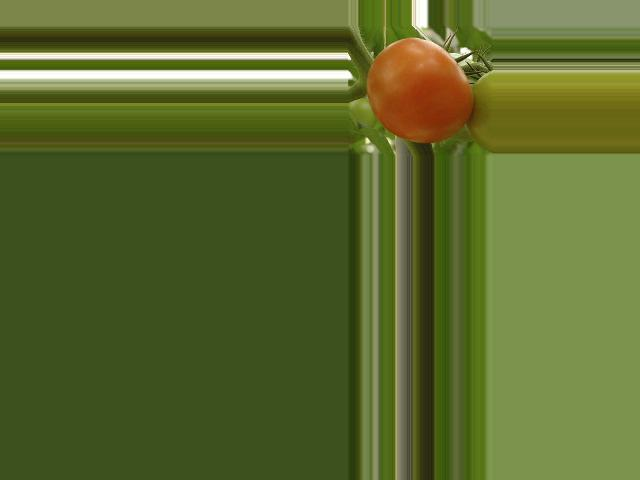tomato: (367, 37, 473, 143)
